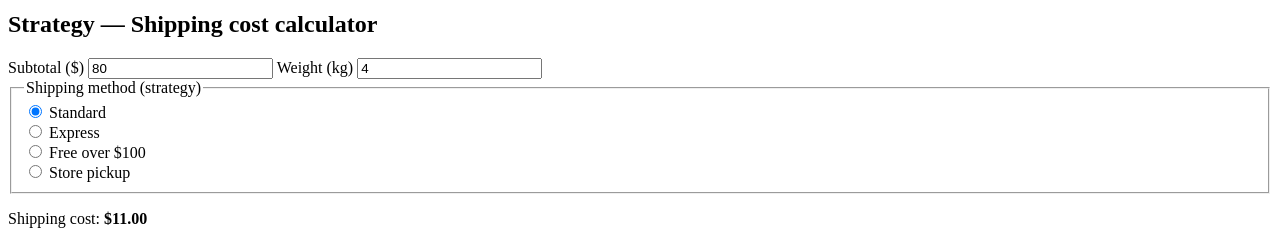
Scenario: <StrategyDemo /> › recalculates the cost when the user picks another strategy
This screenshot has width=1280, height=245.
Expected: the text "$11.00" is shown, left=104, top=210, right=147, bottom=227
Click the radio button labelled "Express" at (36, 132), box left=29, top=125, right=42, bottom=138
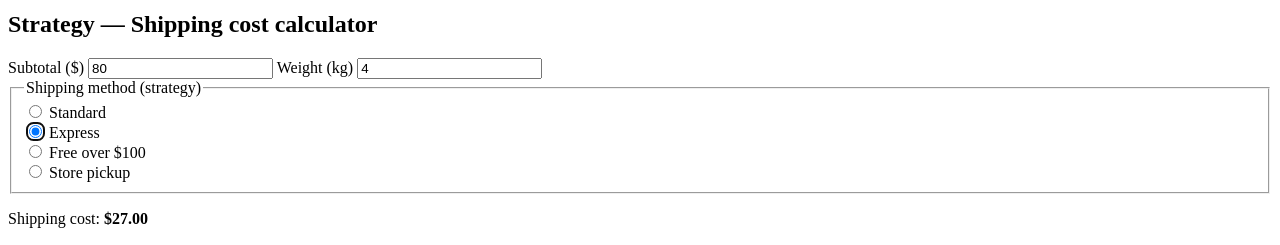
Now the text "$27.00" is shown, box left=104, top=210, right=148, bottom=227
